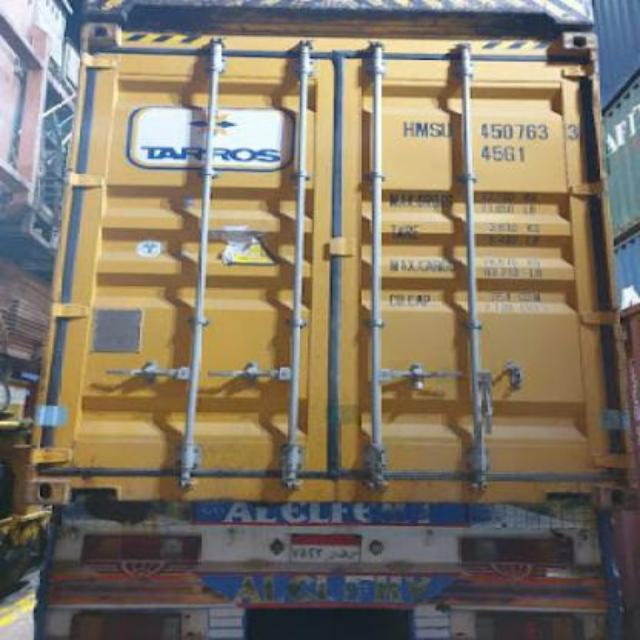0: (502, 117, 514, 141)
3: (562, 119, 582, 143), (538, 116, 550, 144)
4: (476, 117, 489, 141)
5: (492, 115, 504, 139)
6: (524, 116, 538, 146)
7: (512, 117, 526, 143)
H: (396, 112, 416, 142)
M: (414, 114, 430, 142)
S: (430, 114, 442, 142)
U: (440, 115, 452, 141)
